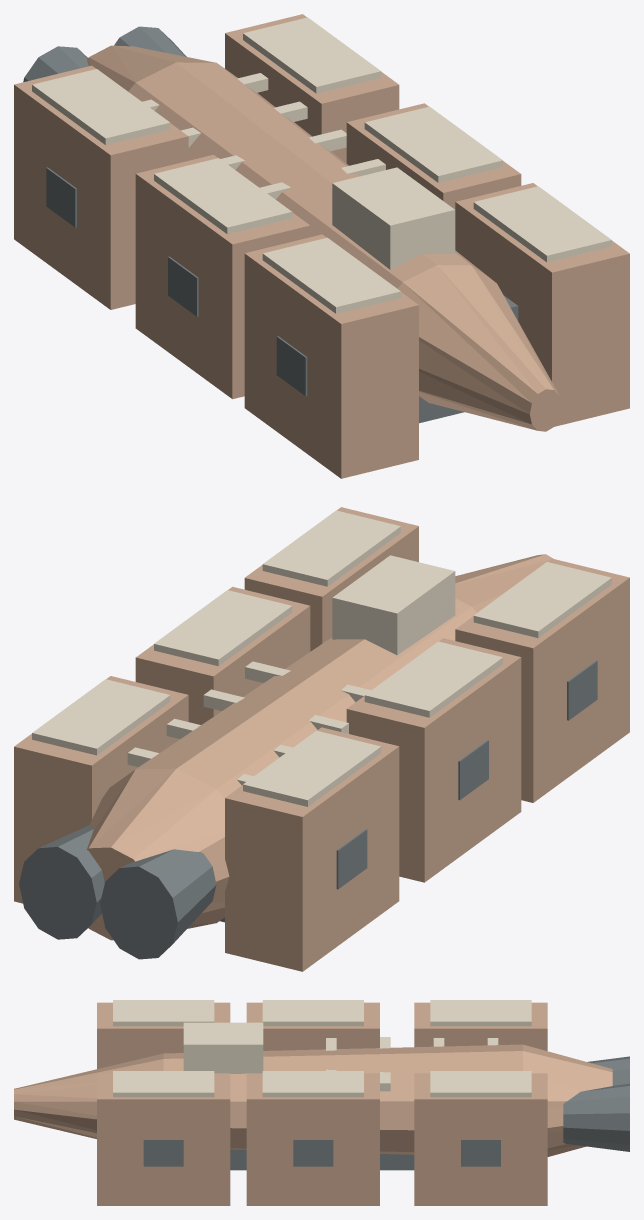
3 renders of one model, top to bottom at view 1: azimuth 30°, elevation 25°; view 2: azimuth 150°, elevation 25°; view 3: azimuth 270°, elevation 25°, orthographic. The views are drawn at different scales.
Size of the model in its own units: 3.35 by 1.97 by 8.89.
